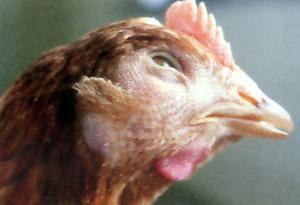AbNormal: (166, 0, 240, 72)
